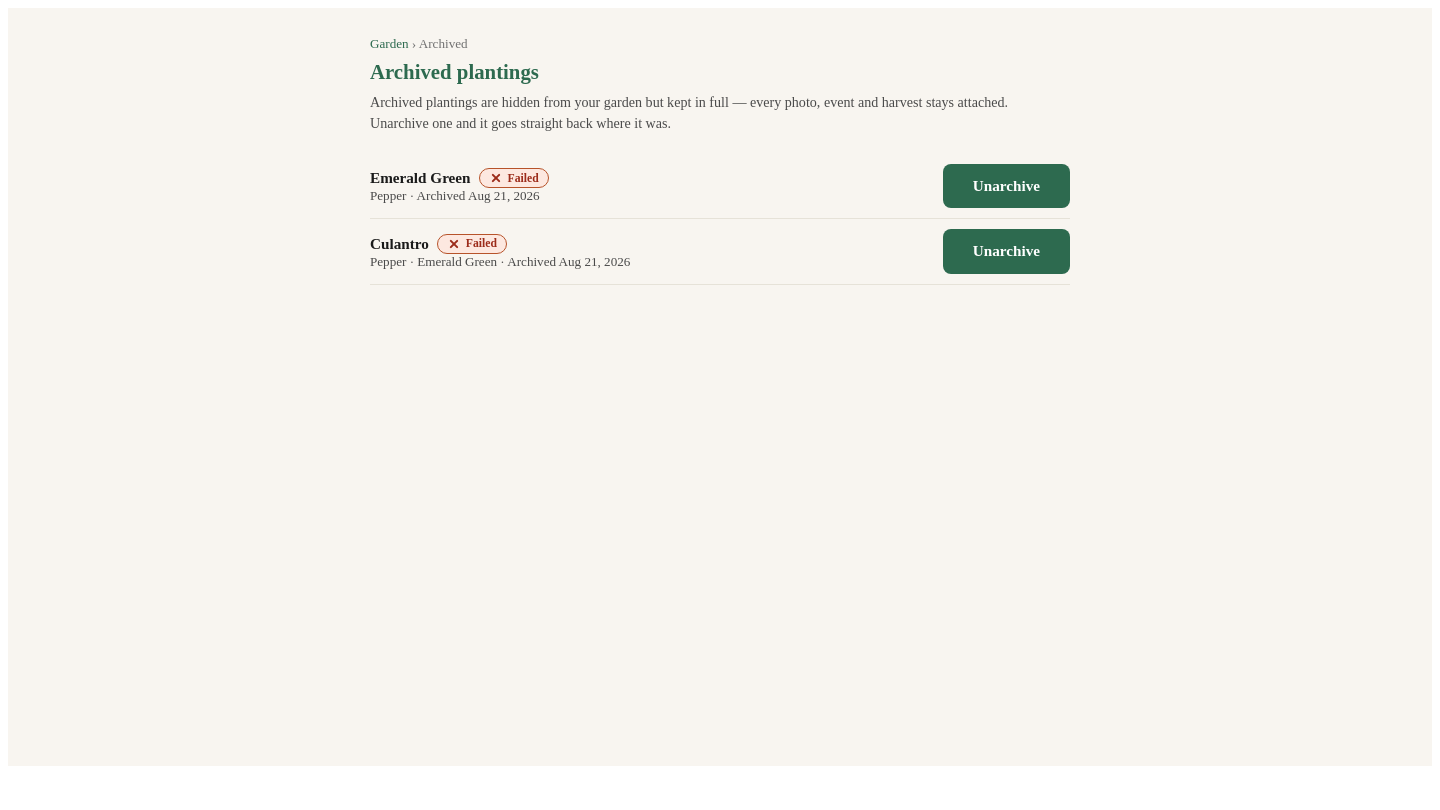
it: ArchivedPlantings › an unarchive failure keeps the list standing and every other row actionable
expect the number of list items with test id "archived-planting-row" is 2: met, box [370,154,1070,219]; [370,220,1070,285]
What coordinates should you click on to do the following:
click the button with aria-label "Unarchive Emerald Green"
I would click on:
 (1006, 186)
Its box is [943,164,1070,208].
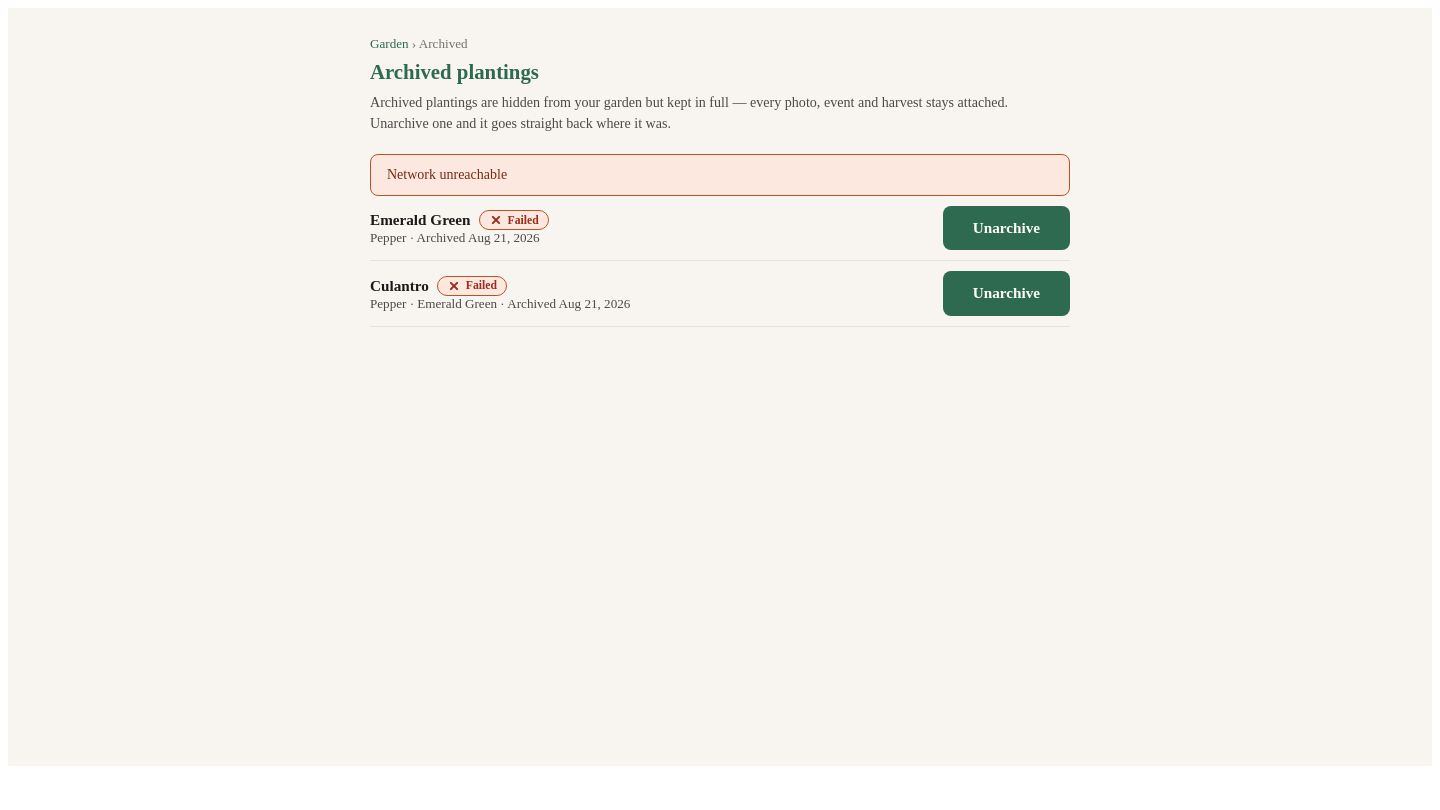
expect the number of list items with test id "archived-planting-row" is 2: met, box [370,196,1070,261]; [370,262,1070,327]
expect the text "Network unreachable" is shown: met, box [370,154,1070,196]
